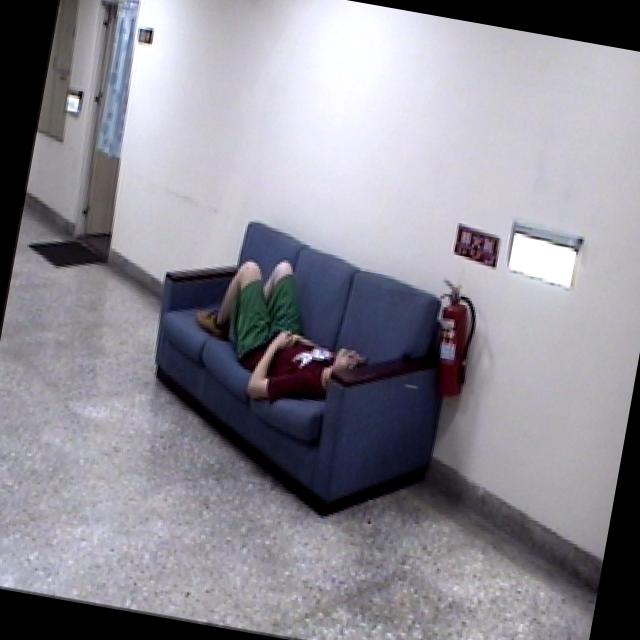lie: (173, 238, 384, 420)
